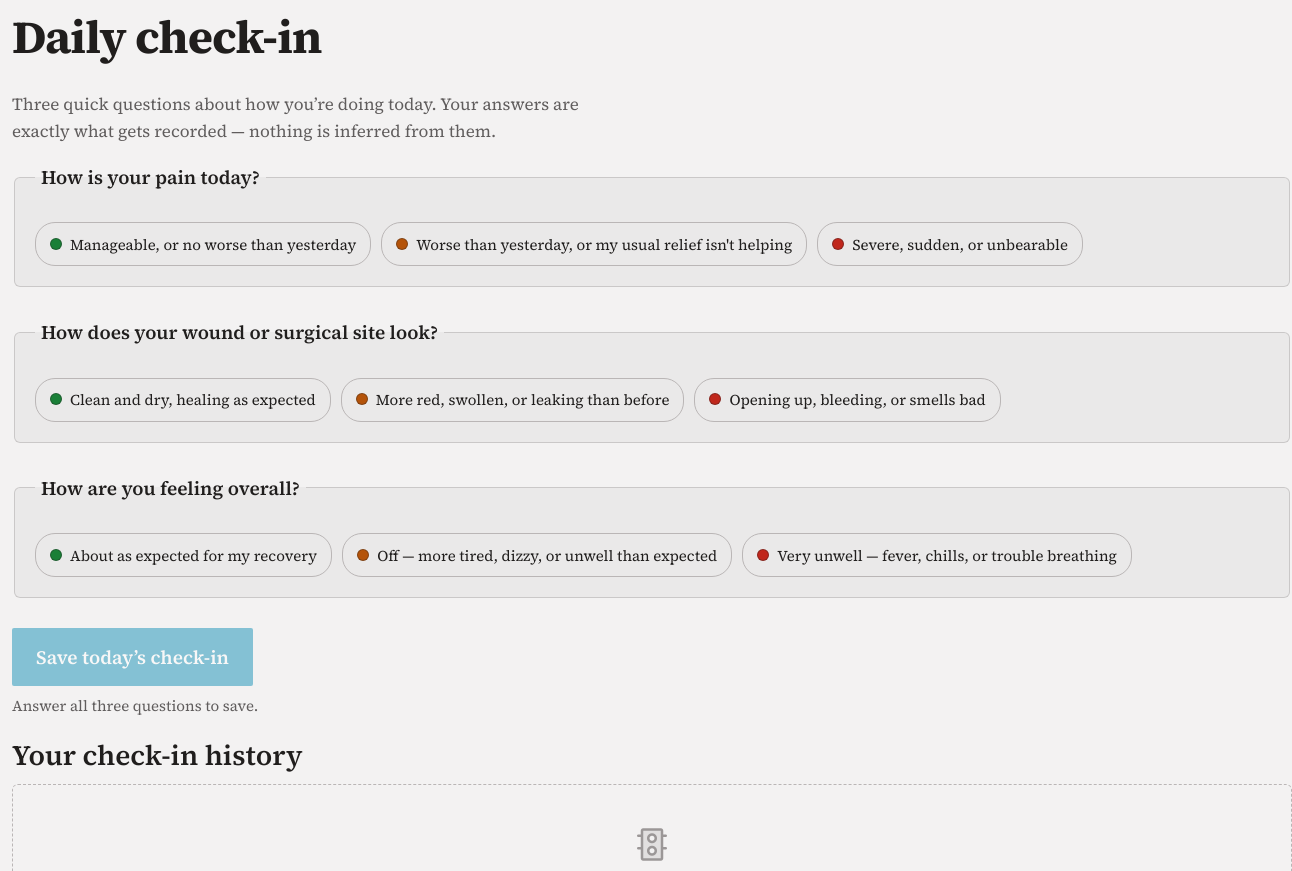
Scenario: CheckIn screen › saves an all-green check-in without alerting the care circle
Click the button "Manageable, or no worse than yesterday" at (203, 244), box [35,222,371,266]
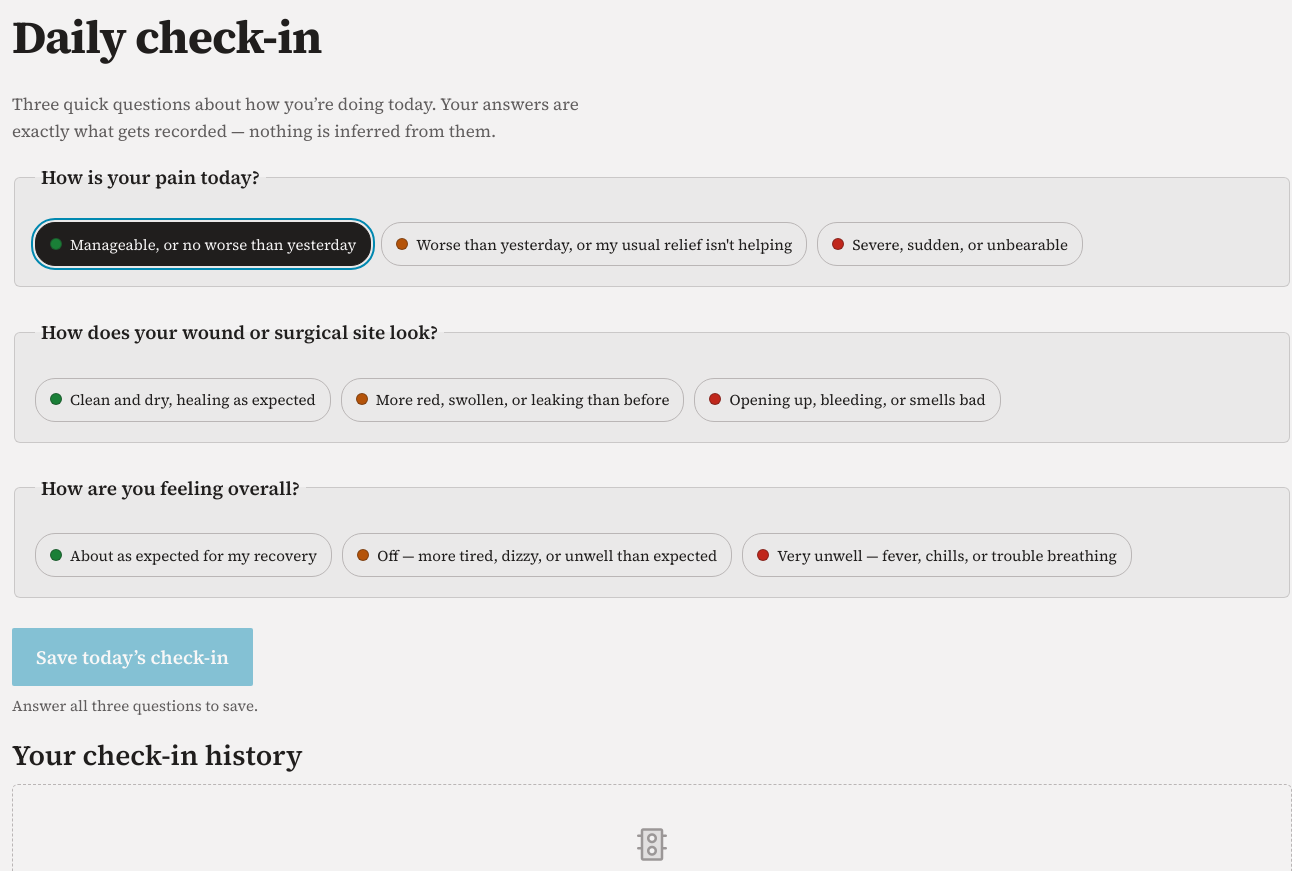
Click the button "Clean and dry, healing as expected" at (183, 400), box [35,378,331,422]
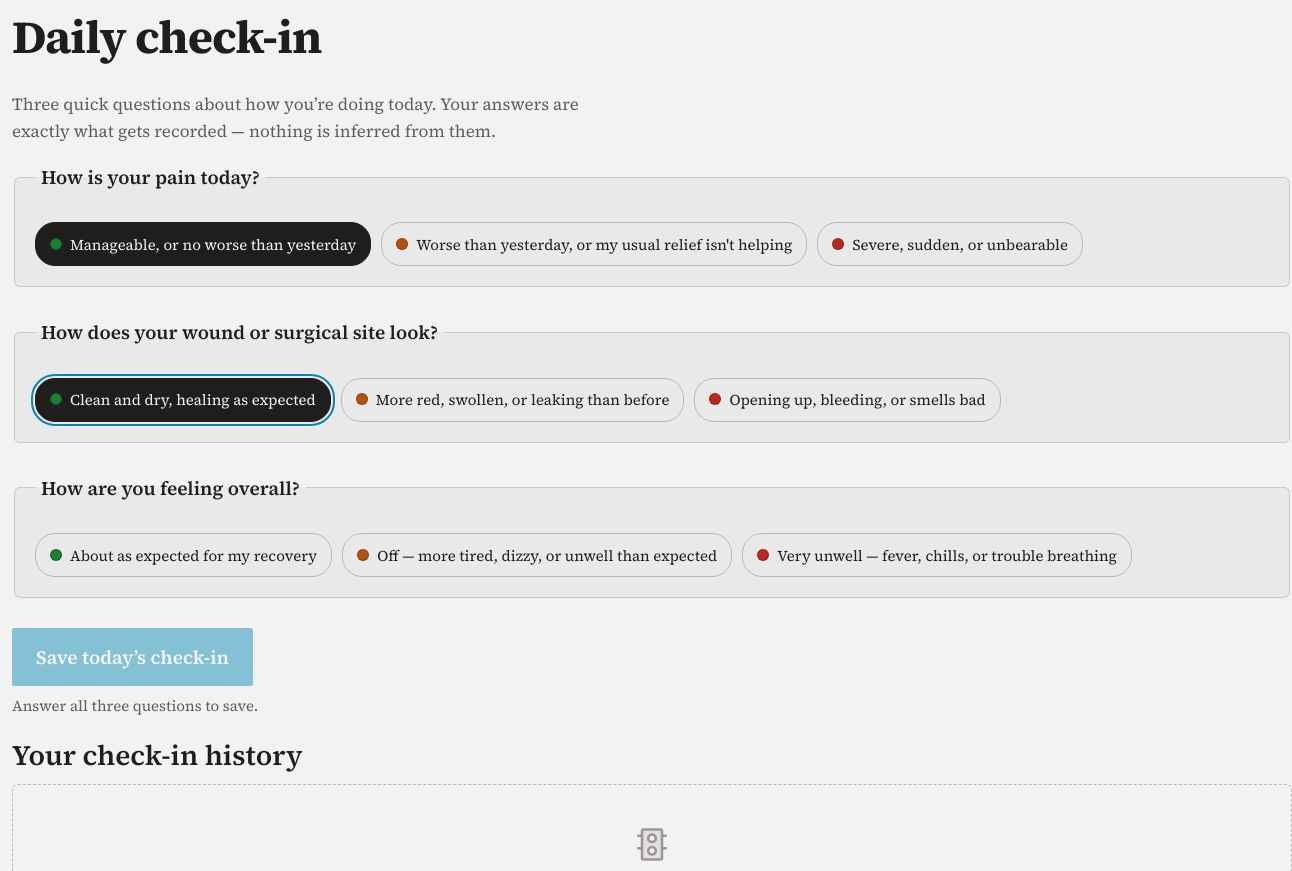
Click the button "About as expected for my recovery" at (184, 555), box [35,533,332,577]
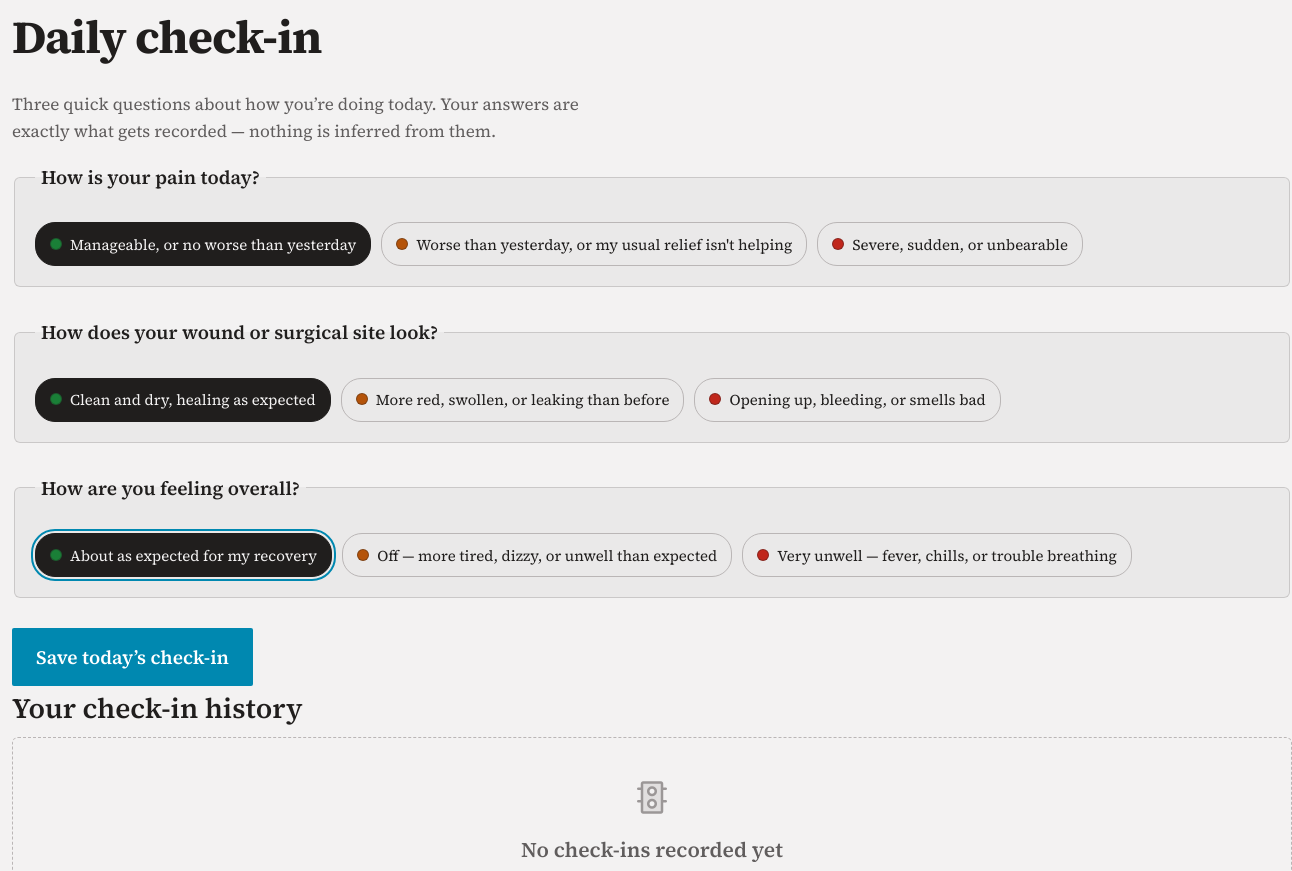
Click the button "Save today’s check-in" at (132, 657), box [12,628,253,686]
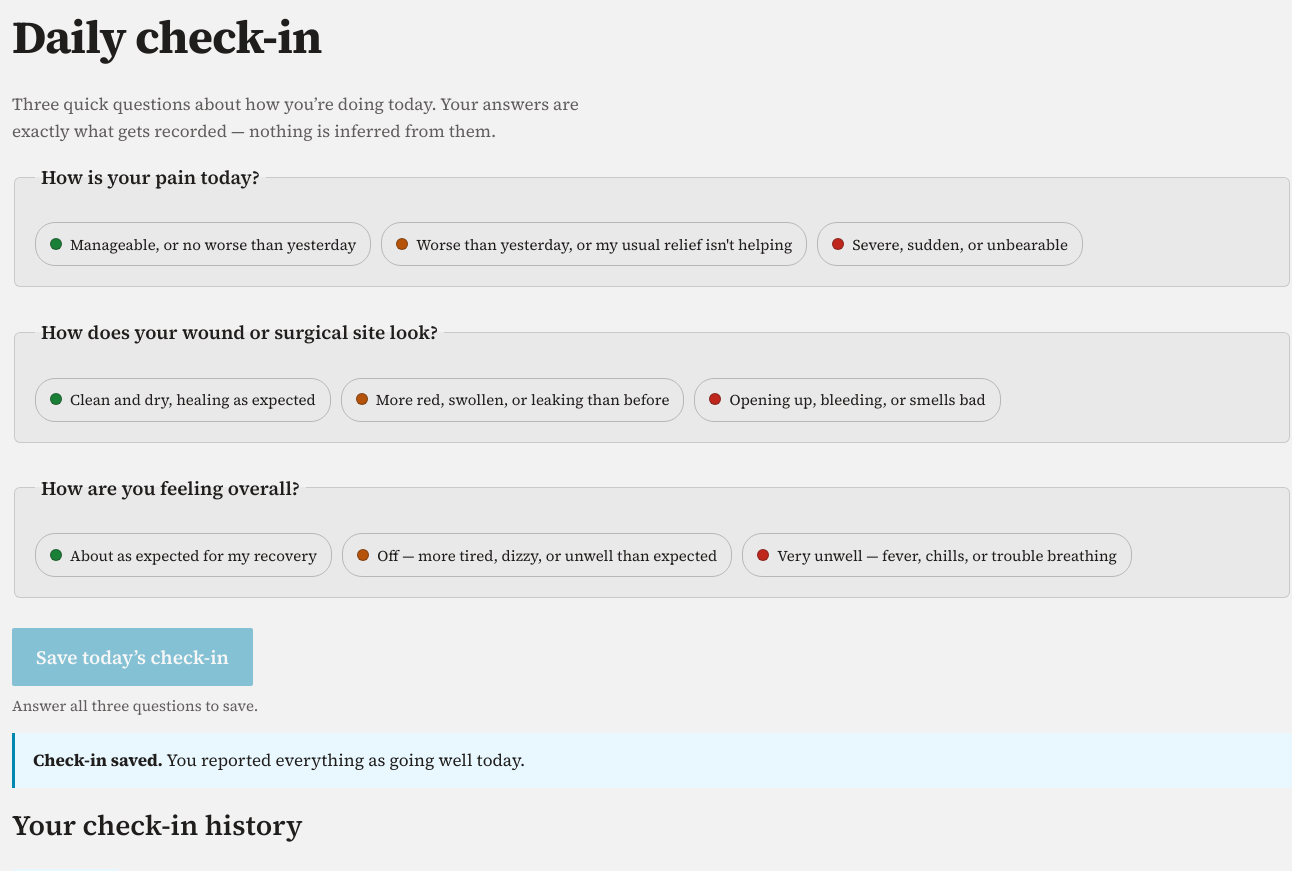
Expected: the text "Check-in saved. You reported everything as going well today." is shown, [12,733,1291,788]
